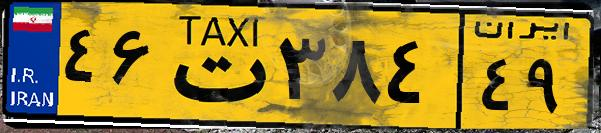3: (270, 28, 330, 110)
4: (385, 28, 445, 110), (57, 26, 110, 100), (475, 38, 525, 113)
6: (110, 28, 158, 98)
8: (330, 28, 385, 110)
9: (525, 38, 570, 115)
ت: (158, 12, 270, 120)
